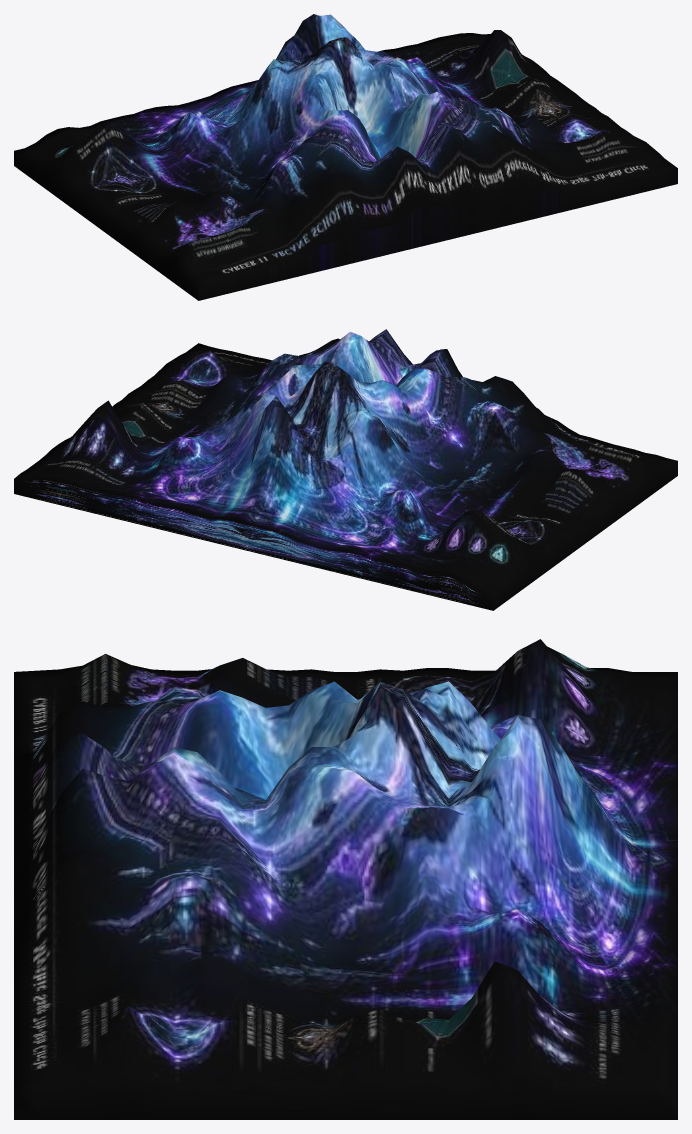
The model's file is CAREER_11_VFX_04_Plane_Walk.glb.
3 views of the same model, one above another, from view 1: azimuth 30°, elevation 25°; view 2: azimuth 150°, elevation 25°; view 3: azimuth 270°, elevation 25° (orthographic). The views are drawn at different scales.
Parts seen in each view (by area): view 1: CAREER_11_VFX_04_Plane_Walk; view 2: CAREER_11_VFX_04_Plane_Walk; view 3: CAREER_11_VFX_04_Plane_Walk.
Boxes of the visible parts, x1,y1,x2,y2 form: CAREER_11_VFX_04_Plane_Walk: (14,14,677,300); CAREER_11_VFX_04_Plane_Walk: (14,329,677,610); CAREER_11_VFX_04_Plane_Walk: (14,639,677,1119).
Bounding box in the file's own units: 2 × 0.51 × 1.33.
1 material, 1 textured.
